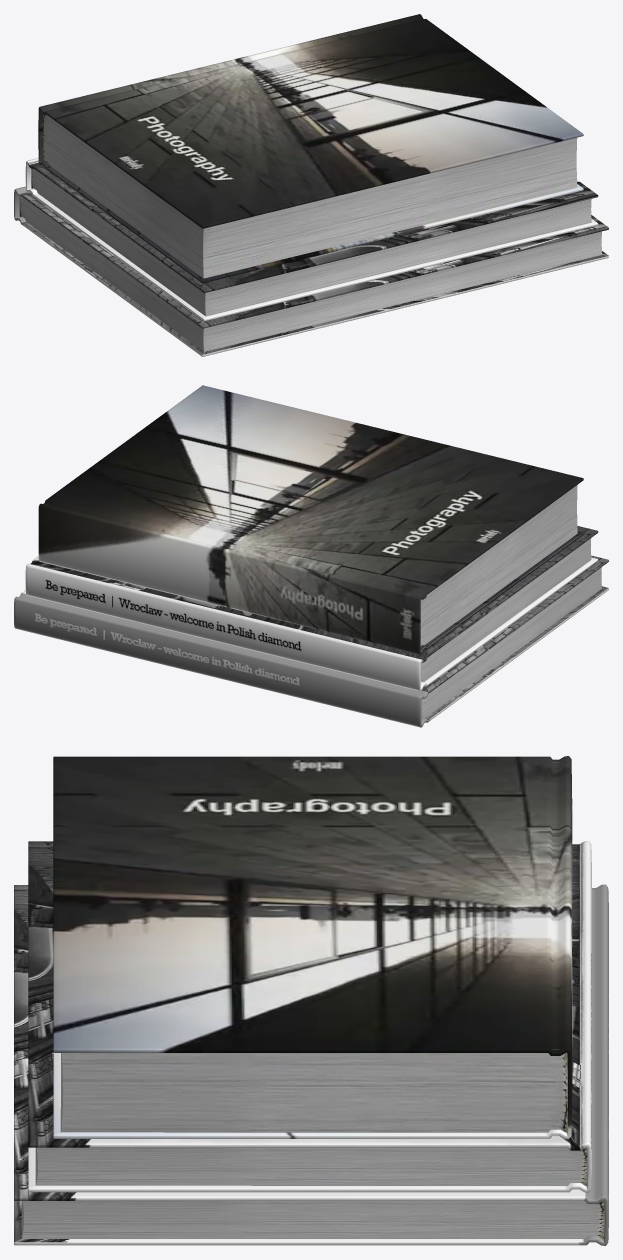
Rendered from books.glb.
The picture shows the model from 3 angles, top to bottom: view 1: azimuth 30°, elevation 25°; view 2: azimuth 150°, elevation 25°; view 3: azimuth 270°, elevation 25°; orthographic projection. The views are drawn at different scales.
Parts seen in each view (by area): view 1: Cover book-02, Cover book-03, Cover book-01; view 2: Cover book-02, Cover book-01, Cover book-03; view 3: Cover book-02, Cover book-03, Cover book-01.
Part boxes in pixels (<box>): Cover book-02: <box>38,14,583,283</box>; Cover book-03: <box>25,158,598,321</box>; Cover book-01: <box>14,186,608,356</box>; Cover book-02: <box>38,385,583,654</box>; Cover book-01: <box>14,555,608,727</box>; Cover book-03: <box>25,526,598,691</box>; Cover book-02: <box>53,756,572,1139</box>; Cover book-03: <box>28,841,591,1192</box>; Cover book-01: <box>14,884,608,1245</box>.
Size of the model in its own units: 0.2395 by 0.0668 by 0.1923.
6 materials, 6 textured.
